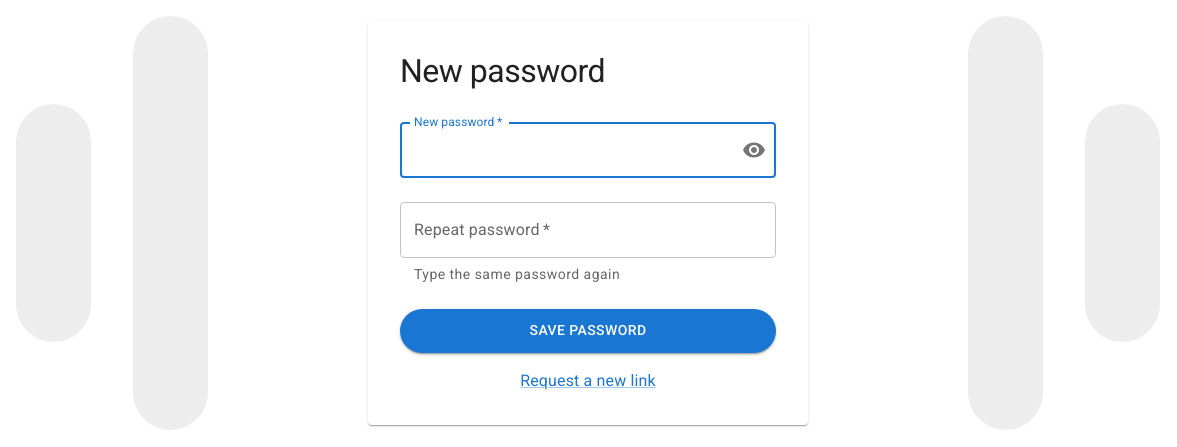
Test: ResetPassword: conferma con riga riservata › il suggerimento e l'esito in inglese
The image size is (1177, 447).
In the password field labelled "New password *": coordinates (563, 150) [400, 122, 726, 178], type "Nuova!Pass2026"
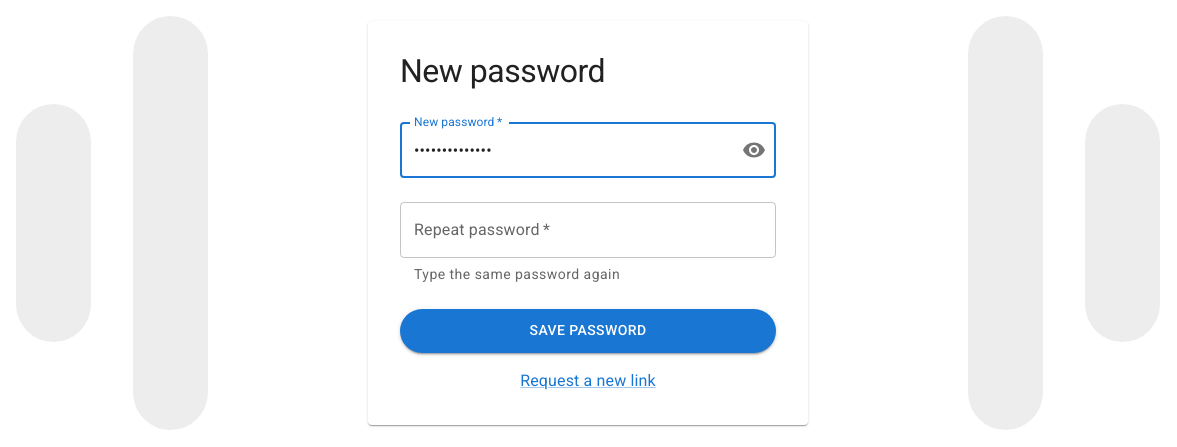
Check: the text "Type the same password again" is shown, box [414, 266, 620, 282]
In the password field labelled "Repeat password *": coordinates (588, 230) [400, 202, 776, 258], type "Nuova!Pass2026"
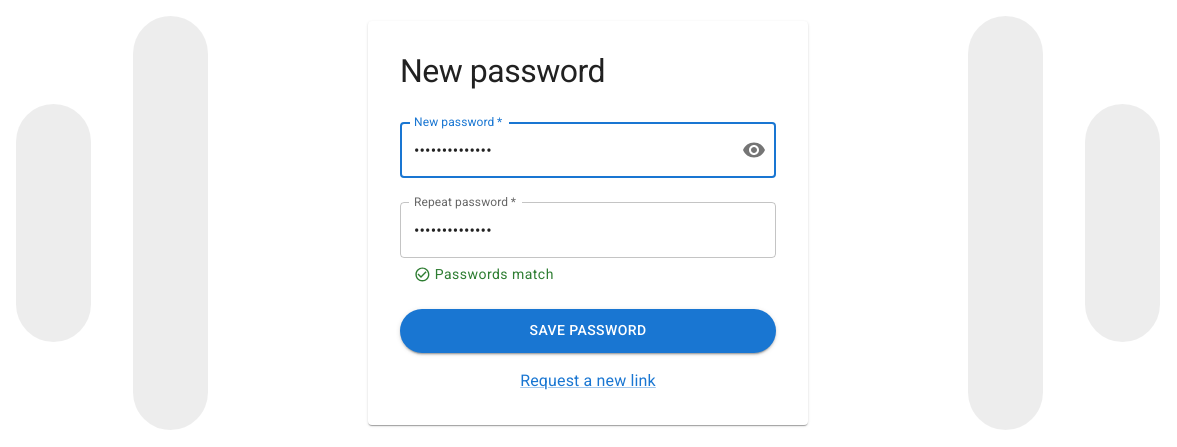
Check: the element showing "Passwords match" is shown, box [414, 266, 554, 283]
In the password field labelled "Repeat password *": coordinates (588, 230) [400, 202, 776, 258], type "Nuova!Pass"
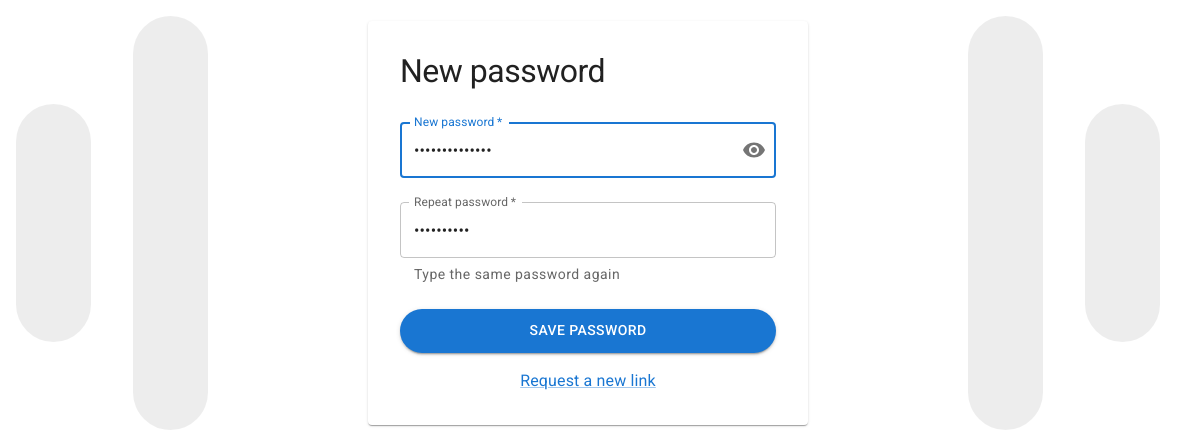
Leave the password field labelled "Repeat password *", box [400, 202, 776, 258]
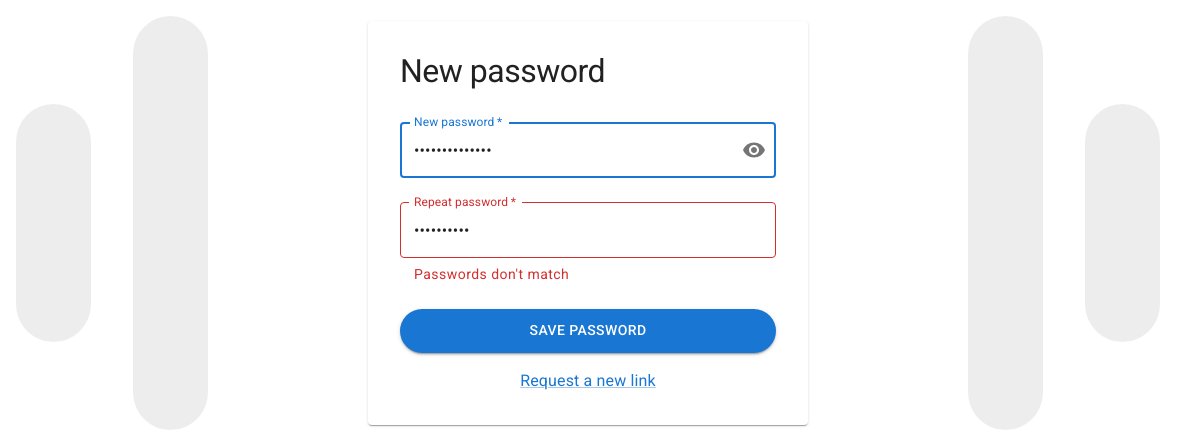
Check: the text "Passwords don't match" is shown, box [414, 266, 569, 282]
